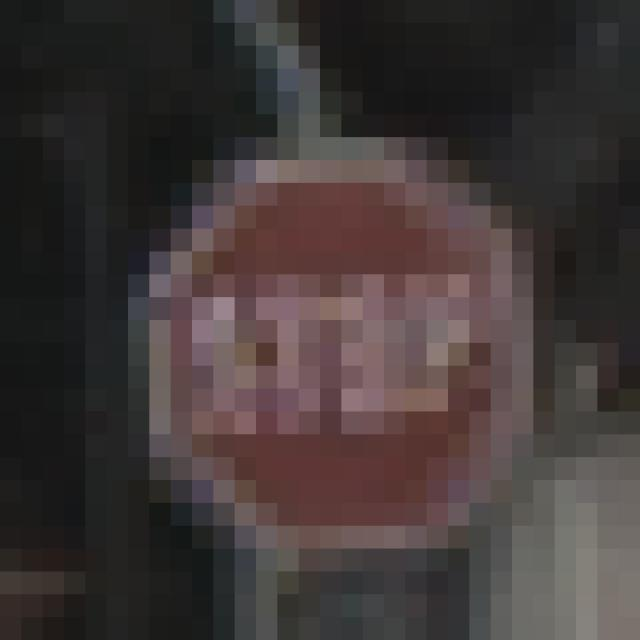STOP: (129, 115, 534, 527)
